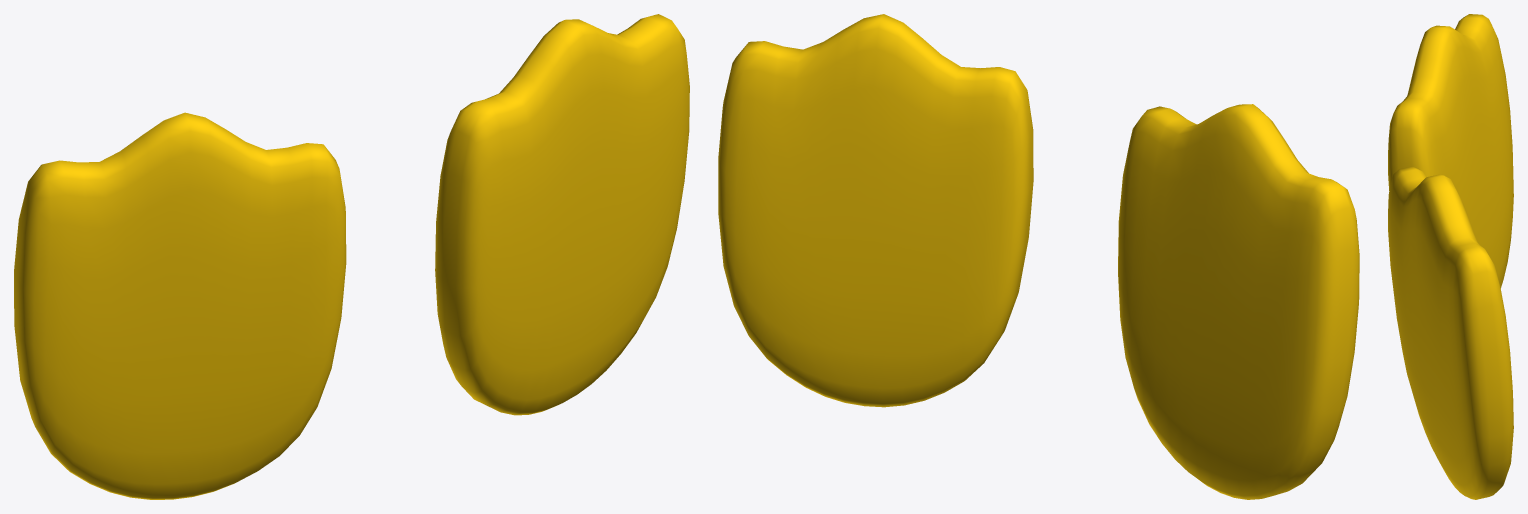
Rendered from PatasGunter_obj.obj.
The picture shows the model from 3 angles, left to right: view 1: azimuth 30°, elevation 25°; view 2: azimuth 150°, elevation 25°; view 3: azimuth 270°, elevation 25°; orthographic projection. The views are drawn at different scales.
Visible parts, largest first — view 1: Patas; view 2: Patas; view 3: Patas.
Boxes of the visible parts, left/top/right/bottom form: Patas: left=14, top=14, right=689, bottom=499; Patas: left=718, top=14, right=1359, bottom=499; Patas: left=1388, top=14, right=1513, bottom=499.
Bounding box in the file's own units: 0.6716 × 0.3802 × 0.1382.
